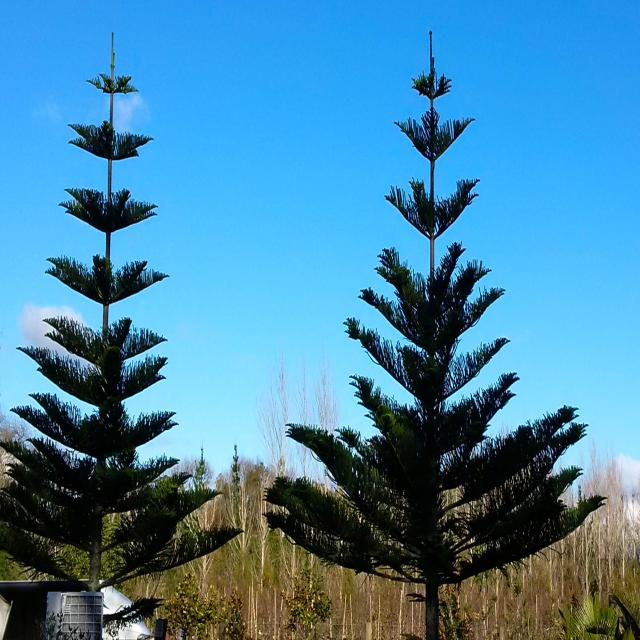Araucaria heterophylla: (266, 26, 606, 636), (10, 36, 229, 583)
